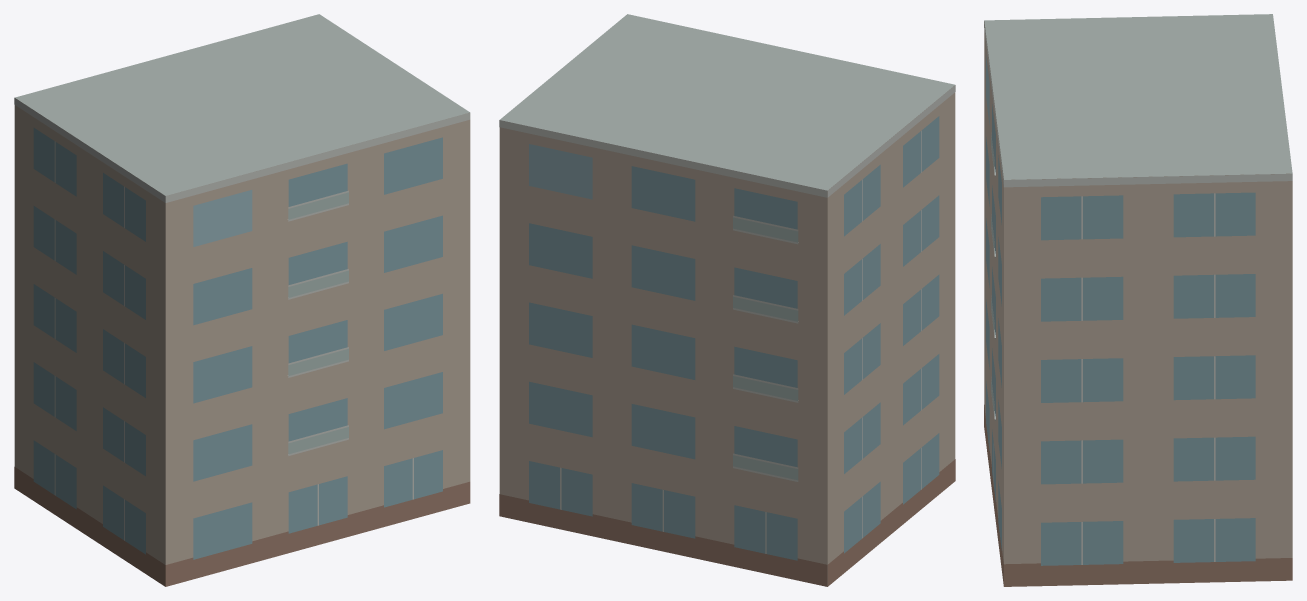
Rendered from survey-upis-32616423.glb.
The picture shows the model from 3 angles, left to right: view 1: azimuth 30°, elevation 25°; view 2: azimuth 150°, elevation 25°; view 3: azimuth 270°, elevation 25°; orthographic projection. The views are drawn at different scales.
Visible parts, largest first — view 1: survey-upis-32616423.tmp; view 2: survey-upis-32616423.tmp; view 3: survey-upis-32616423.tmp.
Boxes of the visible parts, box(x1,y1,x2,y2) form: survey-upis-32616423.tmp: box(14, 14, 470, 586); survey-upis-32616423.tmp: box(499, 14, 955, 586); survey-upis-32616423.tmp: box(984, 14, 1292, 586).
Bounding box in the file's own units: 11.73 × 13.4 × 9.21.
